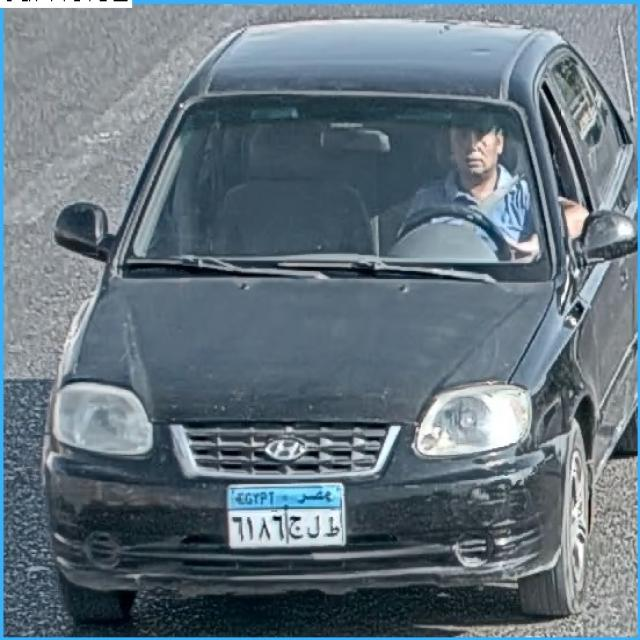windshield: (120, 93, 554, 271)
